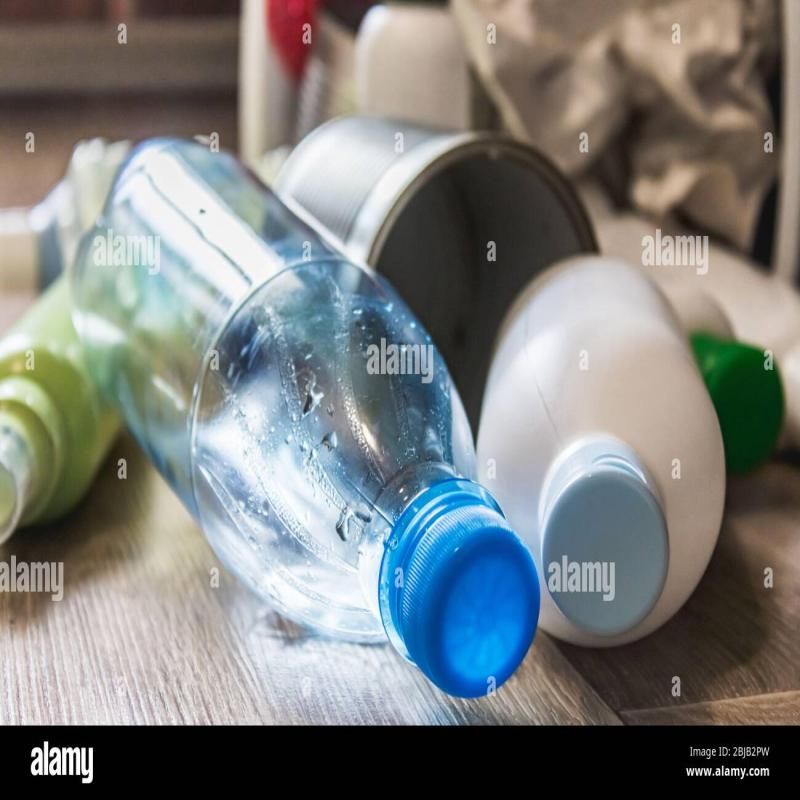botella: (65, 137, 543, 691)
